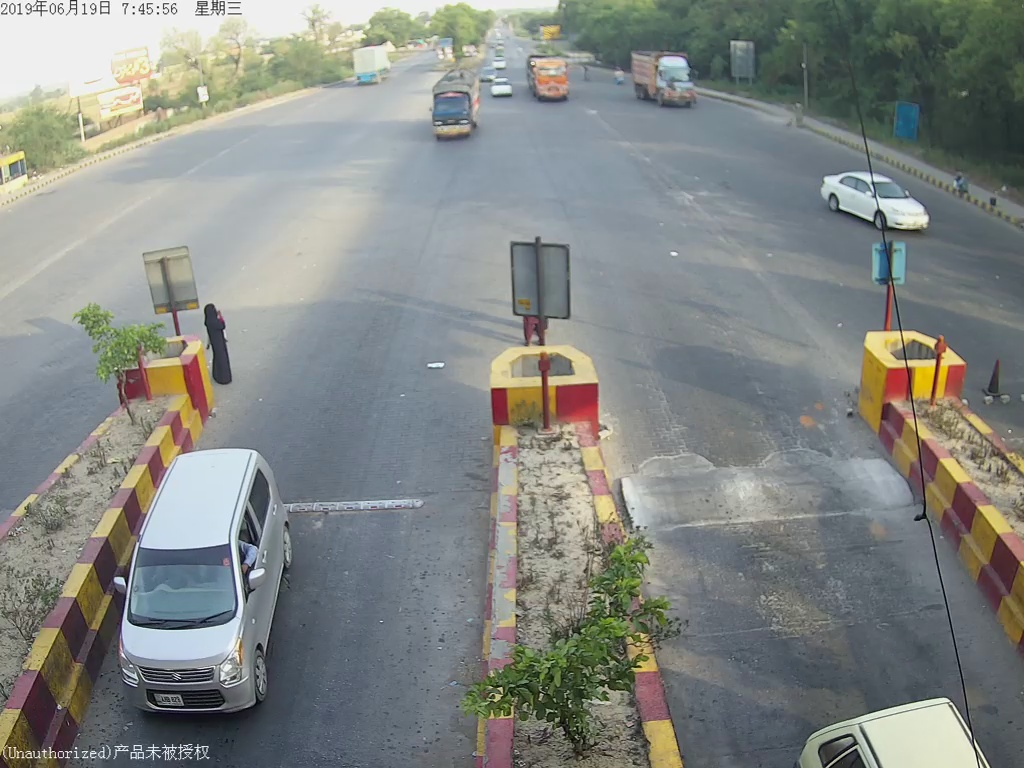Cat-1: (117, 444, 309, 700)
Cat-4: (429, 75, 477, 139)
